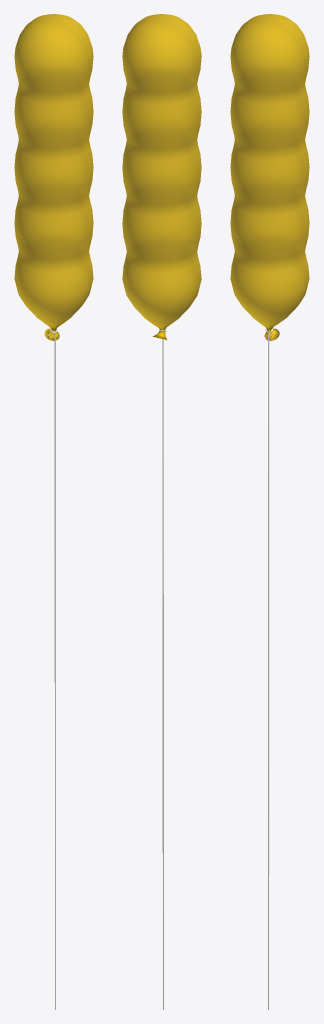
File: balloon rippled.FBX
The picture shows the model from 3 angles, left to right: view 1: azimuth 30°, elevation 25°; view 2: azimuth 150°, elevation 25°; view 3: azimuth 330°, elevation 25°; orthographic projection.
Visible parts, largest first — view 1: balloon rippled main, baloon string 2; view 2: balloon rippled main, baloon string 2; view 3: balloon rippled main, baloon string 2.
Boxes of the visible parts, box(x1,y1,x2,y2) form: balloon rippled main: box(14, 14, 93, 340); baloon string 2: box(50, 329, 57, 1009); balloon rippled main: box(122, 14, 201, 340); baloon string 2: box(159, 329, 166, 1009); balloon rippled main: box(230, 14, 309, 340); baloon string 2: box(265, 328, 272, 1009).
Bounding box in the file's own units: 0.1209 × 0.1209 × 1.67.
